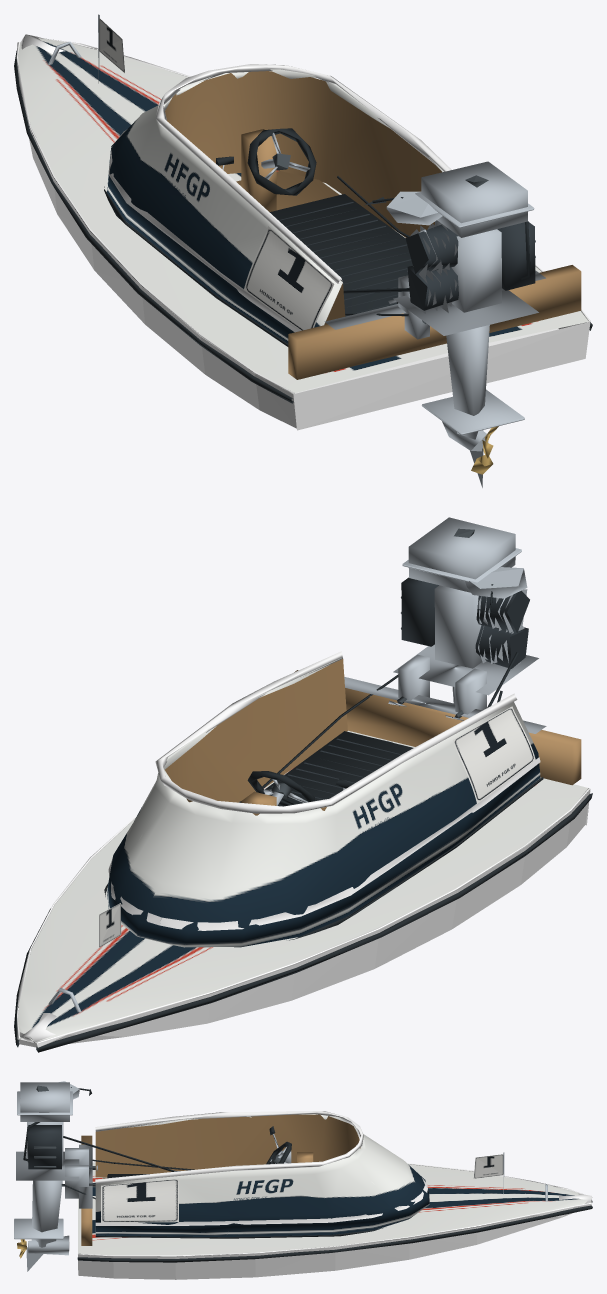
The model's file is boat_lod1.glb.
3 renders of one model, top to bottom at view 1: azimuth 30°, elevation 25°; view 2: azimuth 150°, elevation 25°; view 3: azimuth 270°, elevation 25°, orthographic. The views are drawn at different scales.
Parts seen in each view (by area): view 1: BoatMesh, MotorMesh; view 2: BoatMesh, MotorMesh; view 3: BoatMesh, MotorMesh.
Boxes of the visible parts, x1,y1,x2,y2 form: BoatMesh: (14,14,592,430); MotorMesh: (364,161,538,487); BoatMesh: (14,651,592,1052); MotorMesh: (393,517,538,703); BoatMesh: (61,1111,592,1279); MotorMesh: (14,1081,91,1271).
Bounding box in the file's own units: 1.34 × 1.16 × 3.26.
Materials: 4 (2 with a texture image).
